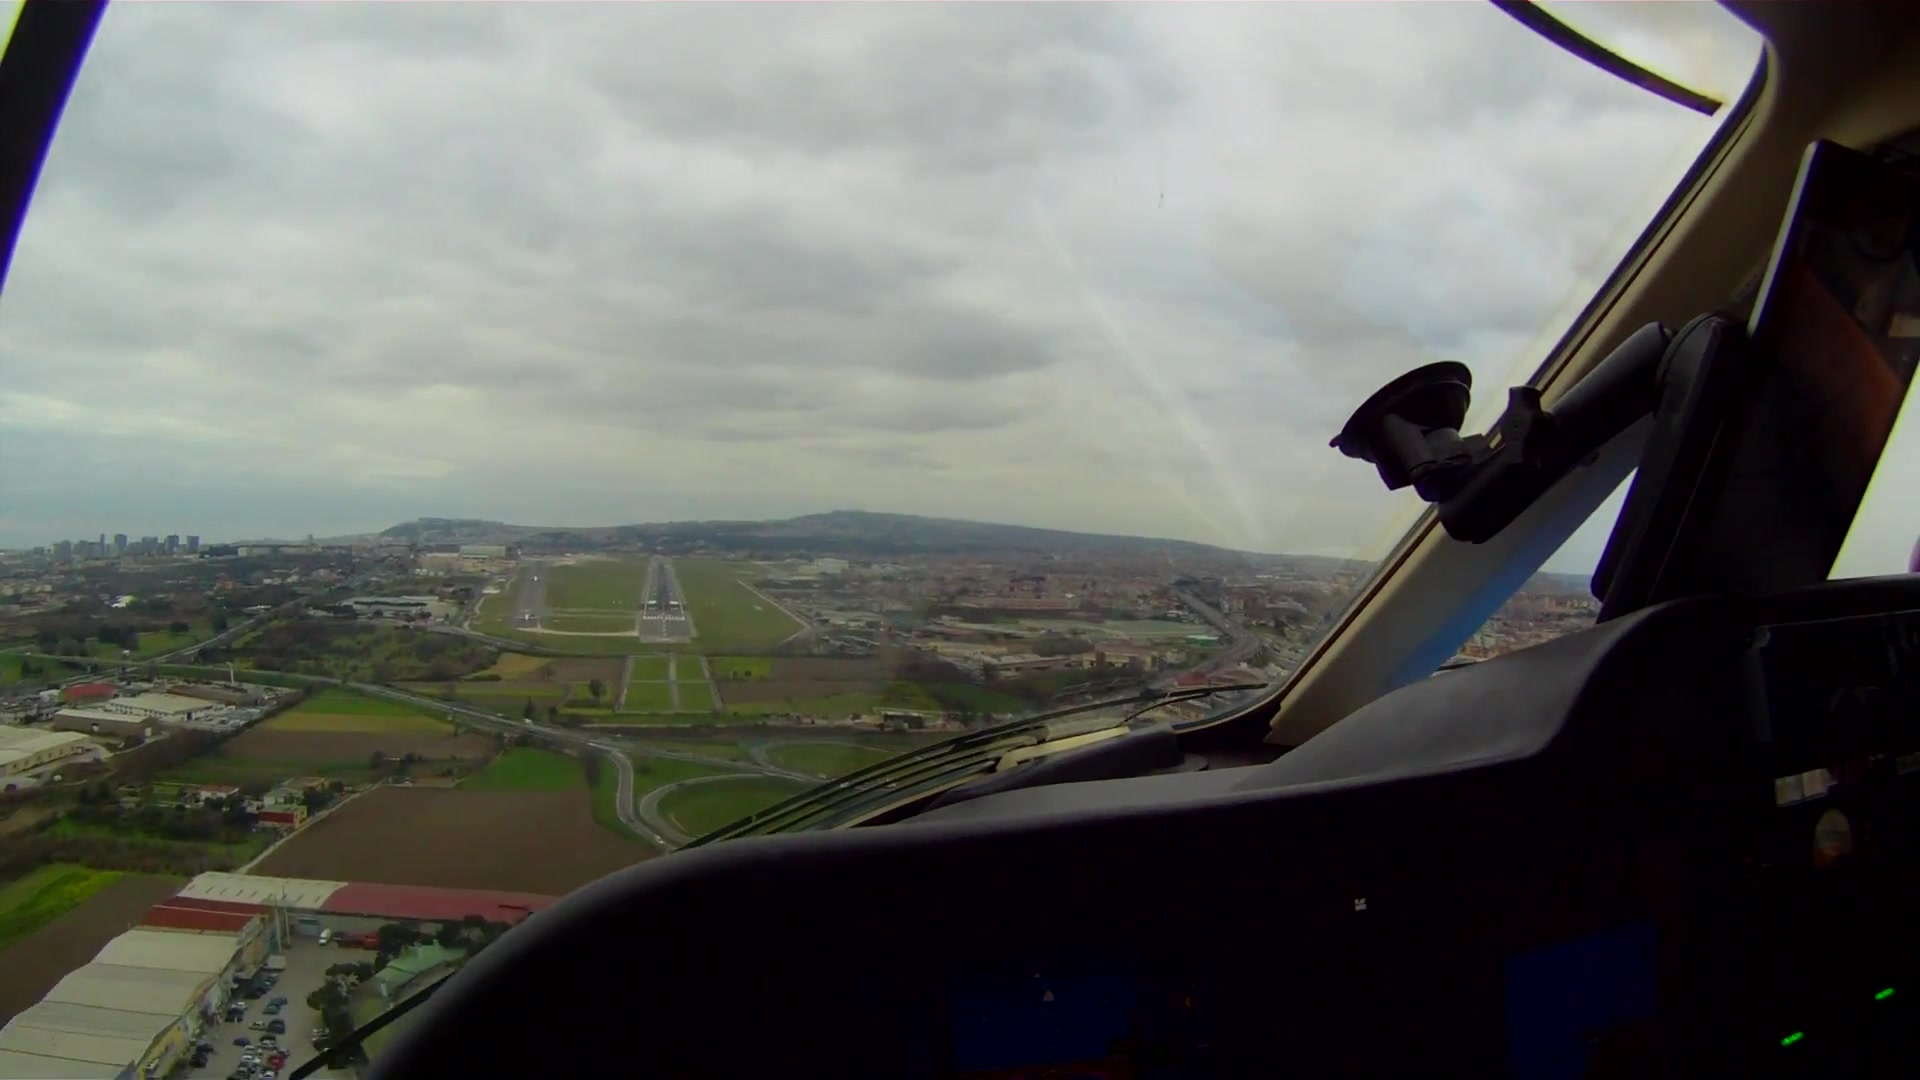entrance: (642, 613, 687, 622)
runway: (638, 558, 694, 640)
